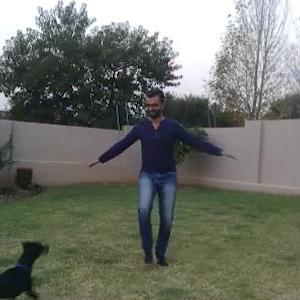land: (90, 76, 235, 271)
